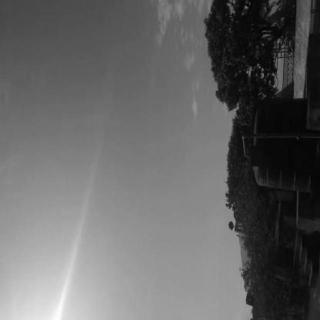other: (17, 282, 69, 320)
